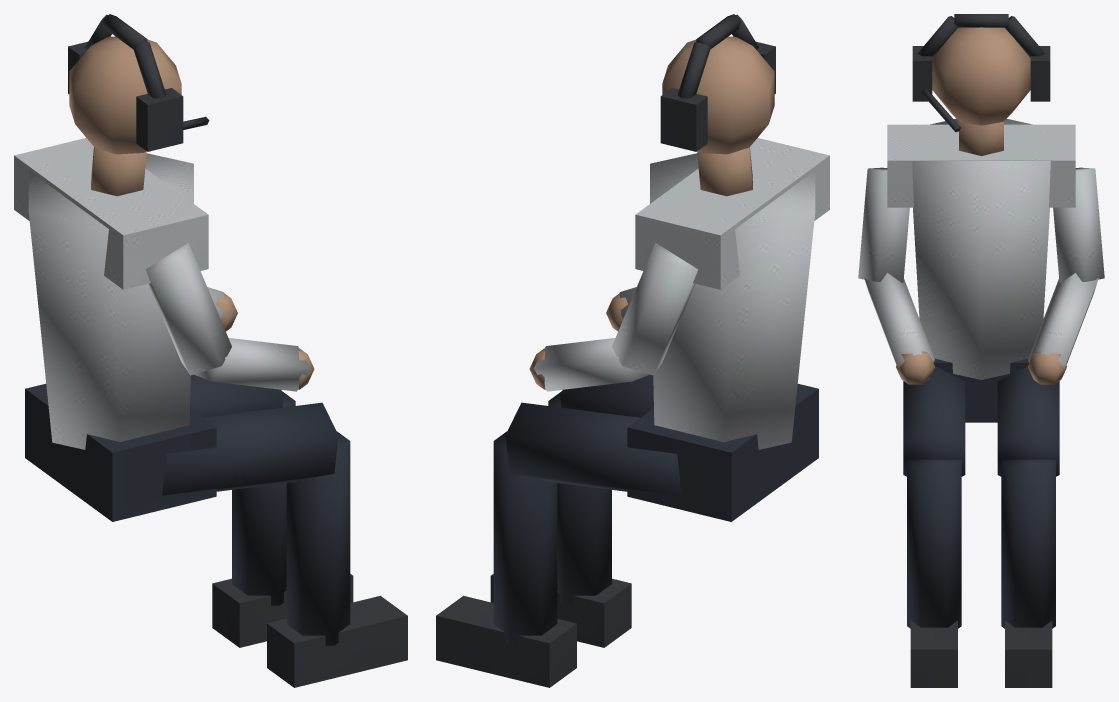
Rendered from crew-engineer-seated_mobile.glb.
The picture shows the model from 3 angles, left to right: view 1: azimuth 30°, elevation 25°; view 2: azimuth 150°, elevation 25°; view 3: azimuth 270°, elevation 25°; orthographic projection. The views are drawn at different scales.
Visible parts, largest first — view 1: clothing, dark-fabric, rubber, skin; view 2: clothing, dark-fabric, rubber, skin; view 3: clothing, dark-fabric, skin, rubber.
Part boxes in pixels (box(x1,y1,x2,y2)): clothing: box(14, 138, 310, 449); dark-fabric: box(25, 374, 350, 645); rubber: box(68, 14, 407, 687); skin: box(69, 36, 314, 389); clothing: box(533, 138, 829, 449); dark-fabric: box(493, 374, 818, 645); rubber: box(436, 14, 775, 687); skin: box(529, 36, 774, 389); clothing: box(858, 118, 1104, 379); dark-fabric: box(903, 358, 1059, 628); skin: box(896, 27, 1066, 384); rubber: box(910, 14, 1052, 687).
Bounding box in the file's own units: 0.7148 × 1.34 × 0.5233.
Materials: 4 (3 with a texture image).
